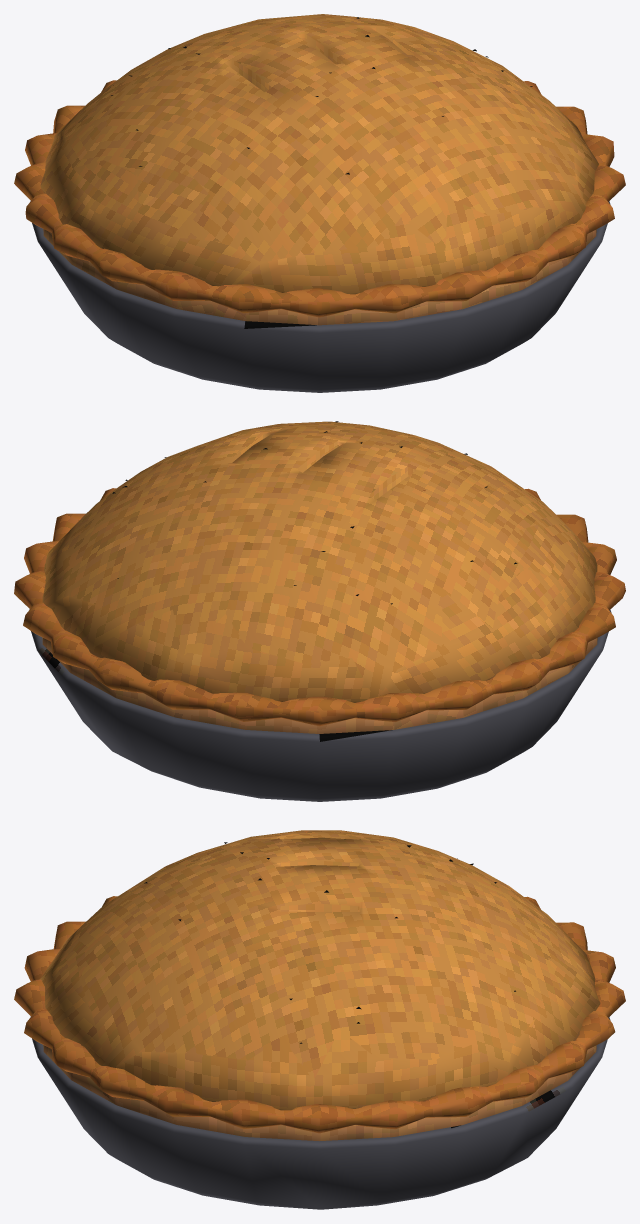
Rendered from pie_ps2.glb.
The picture shows the model from 3 angles, top to bottom: view 1: azimuth 30°, elevation 25°; view 2: azimuth 150°, elevation 25°; view 3: azimuth 270°, elevation 25°; orthographic projection.
Parts seen in each view (by area): view 1: PS2_Golden_Domed_Pie; view 2: PS2_Golden_Domed_Pie; view 3: PS2_Golden_Domed_Pie.
Part boxes in pixels (left/top/right/bottom): PS2_Golden_Domed_Pie: left=14, top=14, right=625, bottom=392; PS2_Golden_Domed_Pie: left=14, top=421, right=625, bottom=801; PS2_Golden_Domed_Pie: left=14, top=830, right=625, bottom=1209.
Bounding box in the file's own units: 0.3101 × 0.1381 × 0.3101.
Materials: 1 (1 with a texture image).
